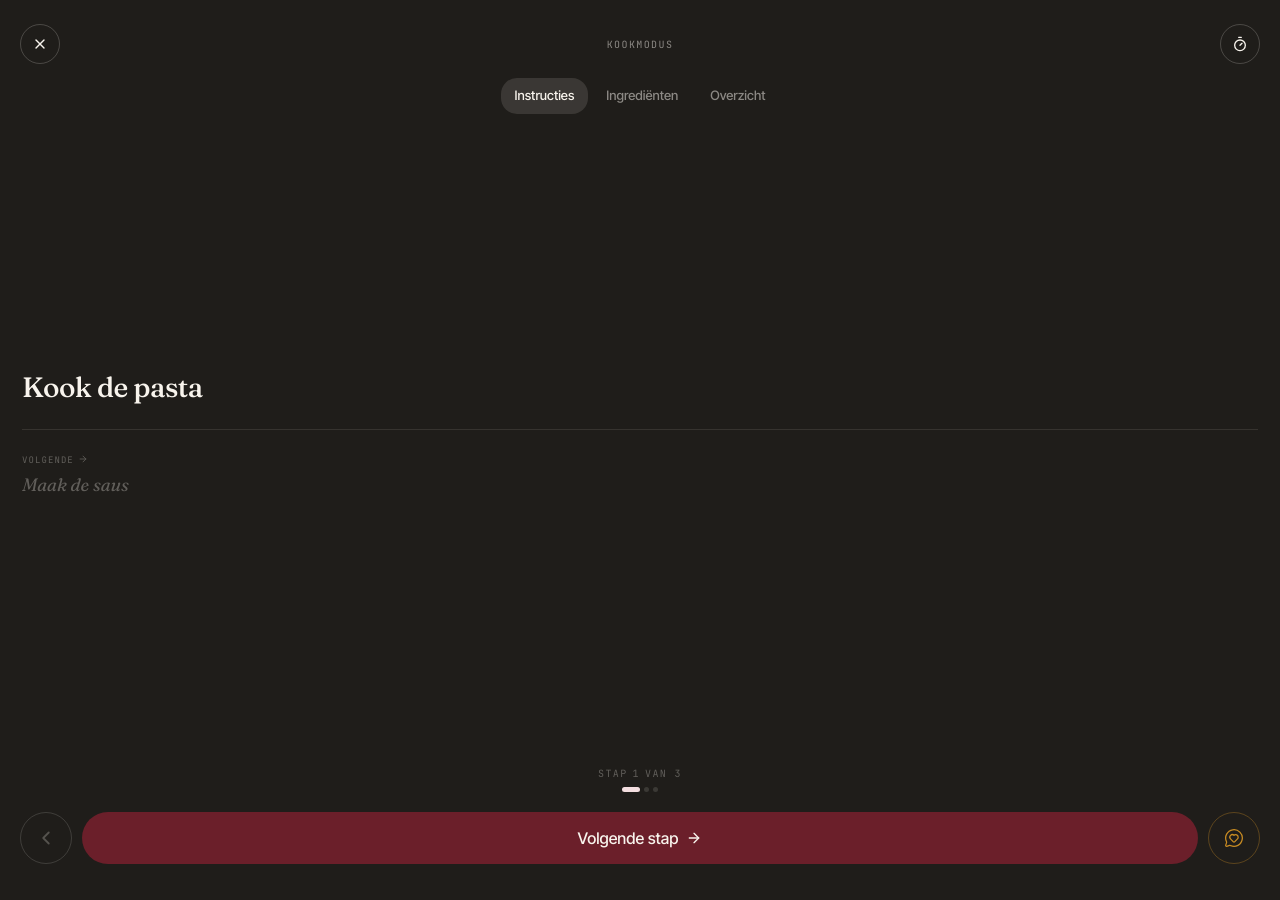
Test: CookingScreen › overview tab › shows the overview panel when Overzicht tab is clicked
Click the button "Overzicht" at (738, 96), box [696,78,780,114]
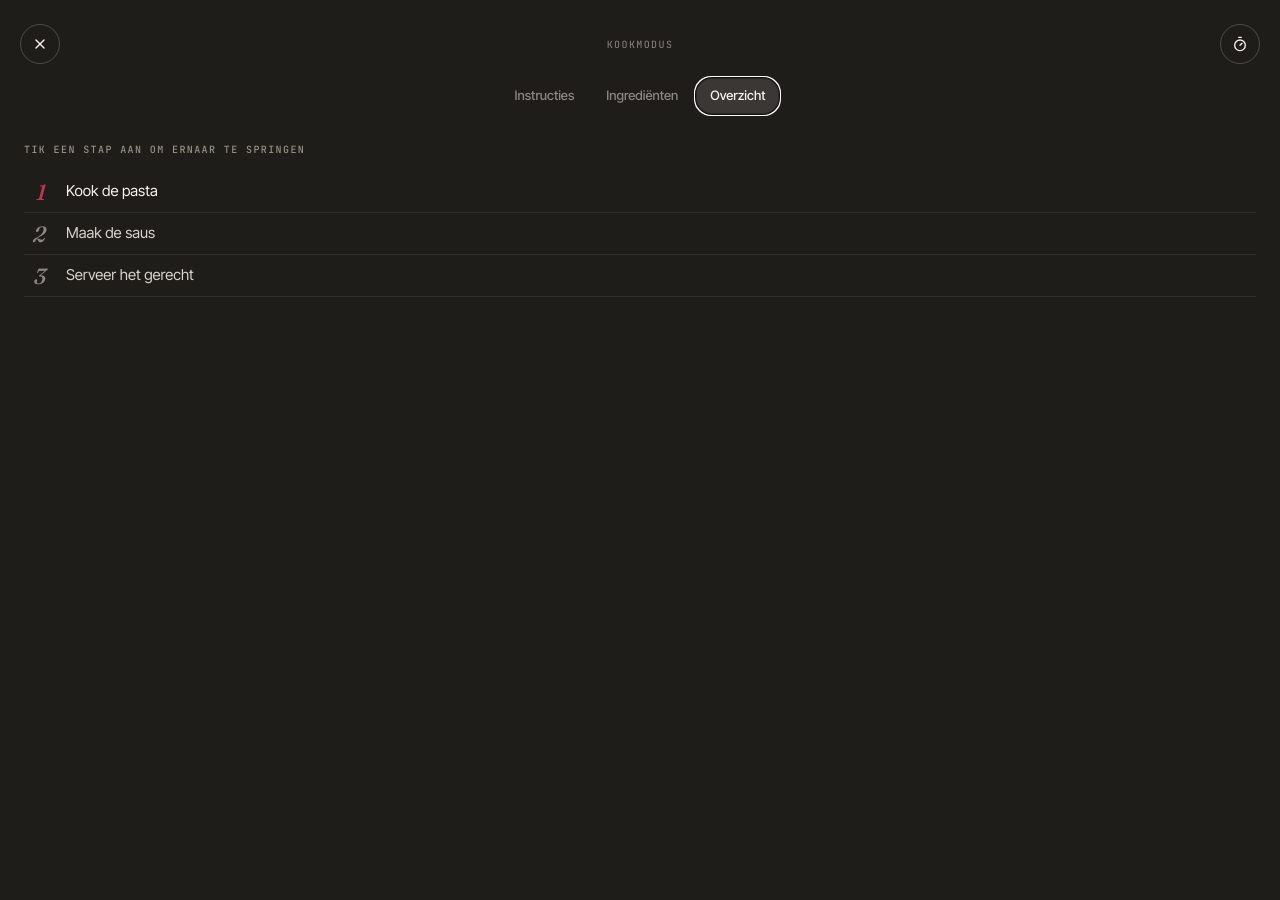
Now the text "TIK EEN STAP AAN OM ERNAAR TE SPRINGEN" is shown, box [24,142,305,156]
